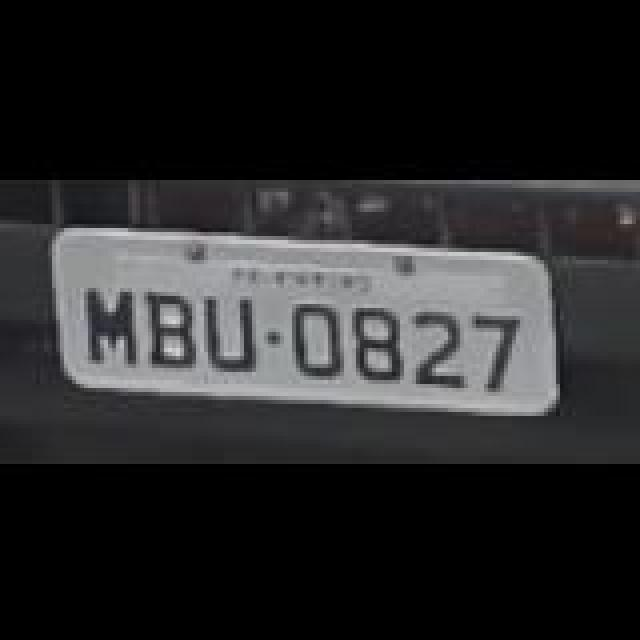2: (408, 308, 472, 388)
7: (470, 310, 530, 386)
8: (348, 306, 412, 382)
B: (140, 288, 204, 368)
D: (286, 298, 354, 374)
M: (84, 284, 148, 364)
U: (198, 292, 266, 372)
